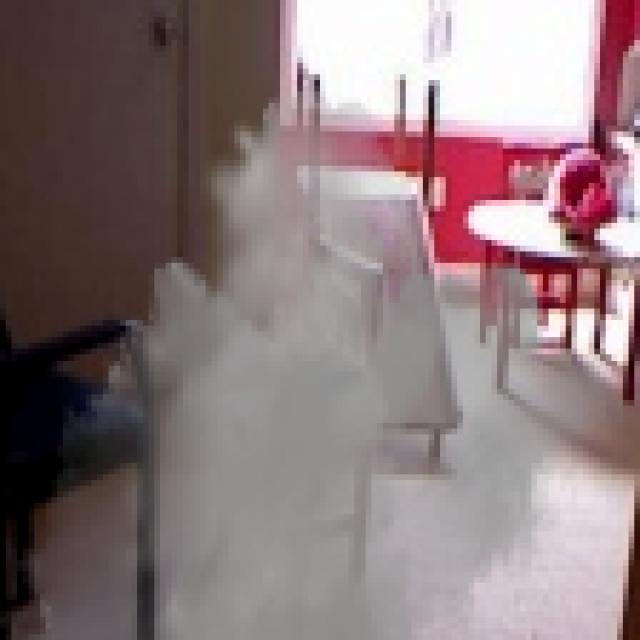smoke: (0, 85, 628, 640)
